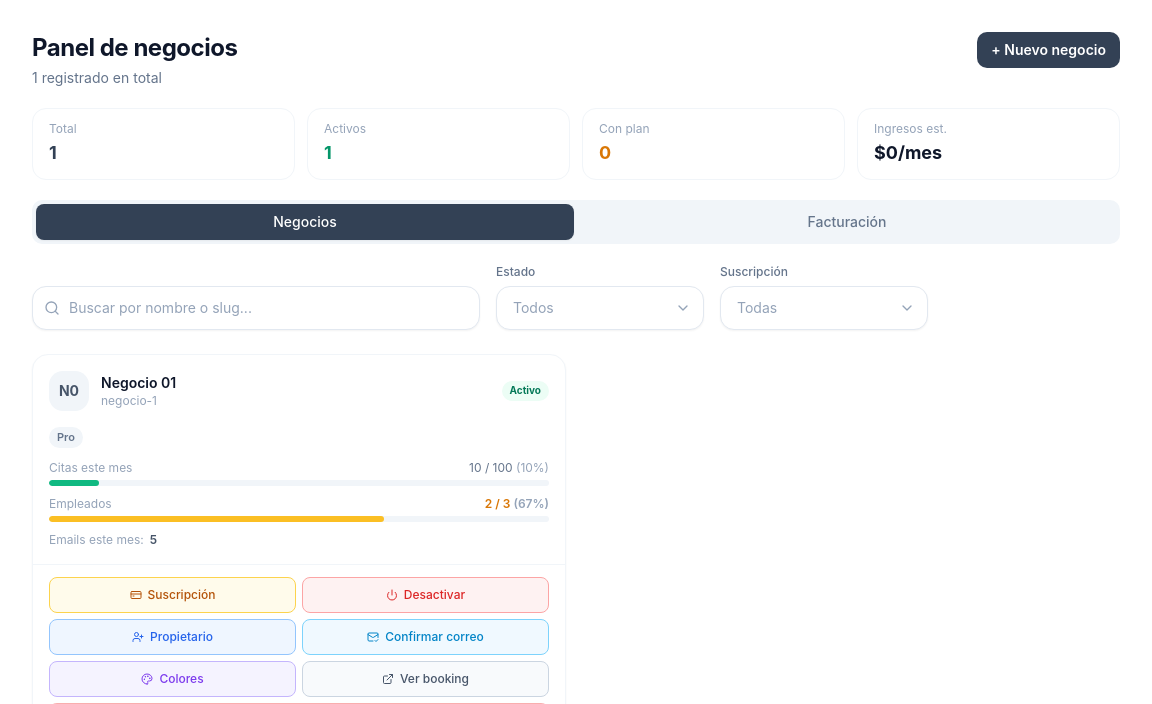
Test: NegociosAdminPage — filtros y paginación › ofrece restablecer cuando ningún negocio coincide
Expected: the text "Negocio 01" is shown, x1=101 y1=374 x2=176 y2=391
Type "zzz" into the search field named "Buscar negocio" at [256, 308], box x1=32 y1=286 x2=480 y2=330
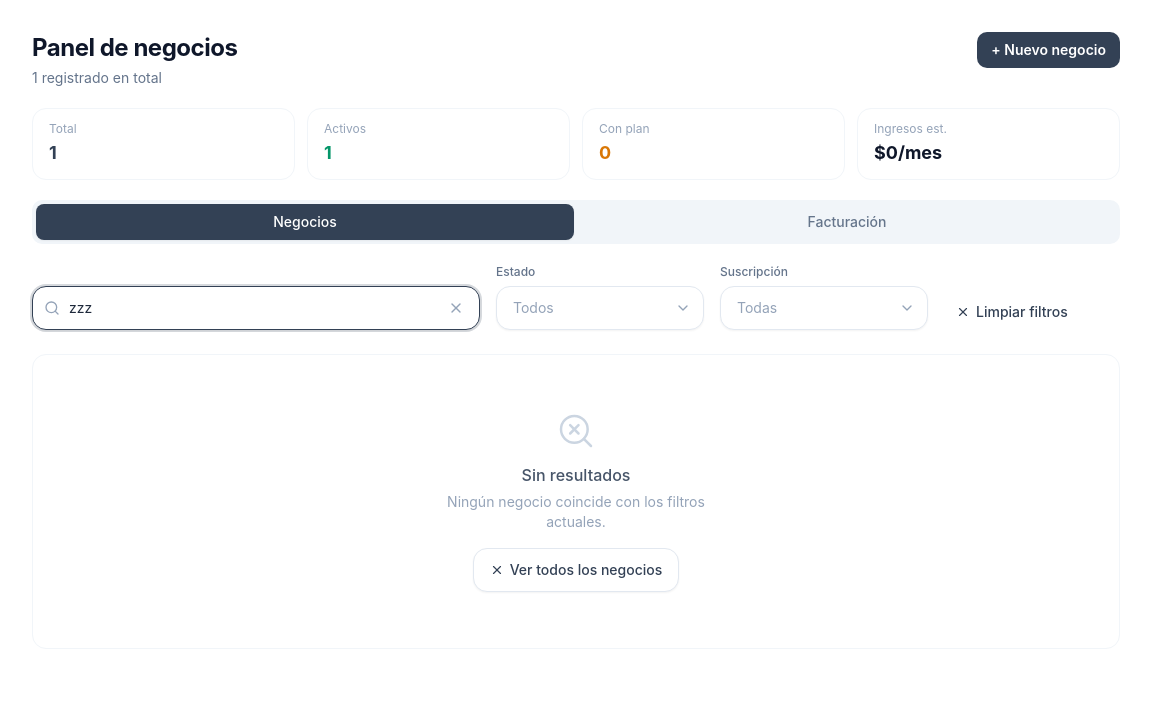
Click the button "Ver todos los negocios" at [576, 570], box x1=473 y1=548 x2=679 y2=592
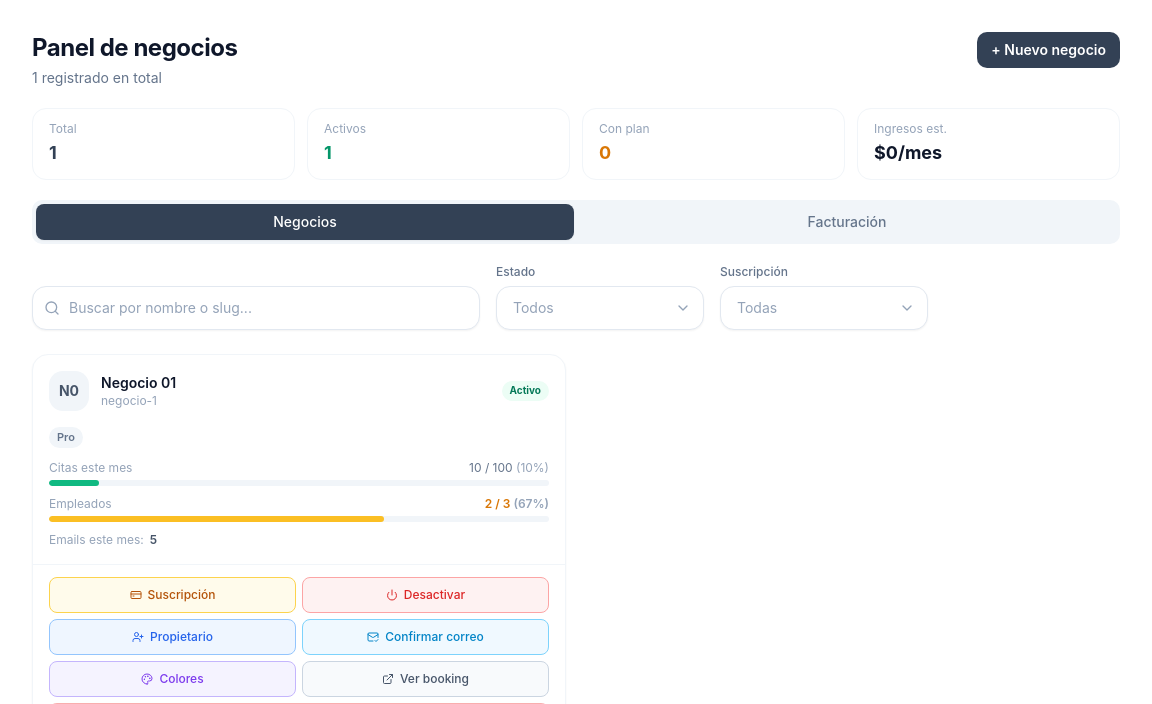
Expected: the text "Negocio 01" is shown, x1=101 y1=374 x2=176 y2=391
